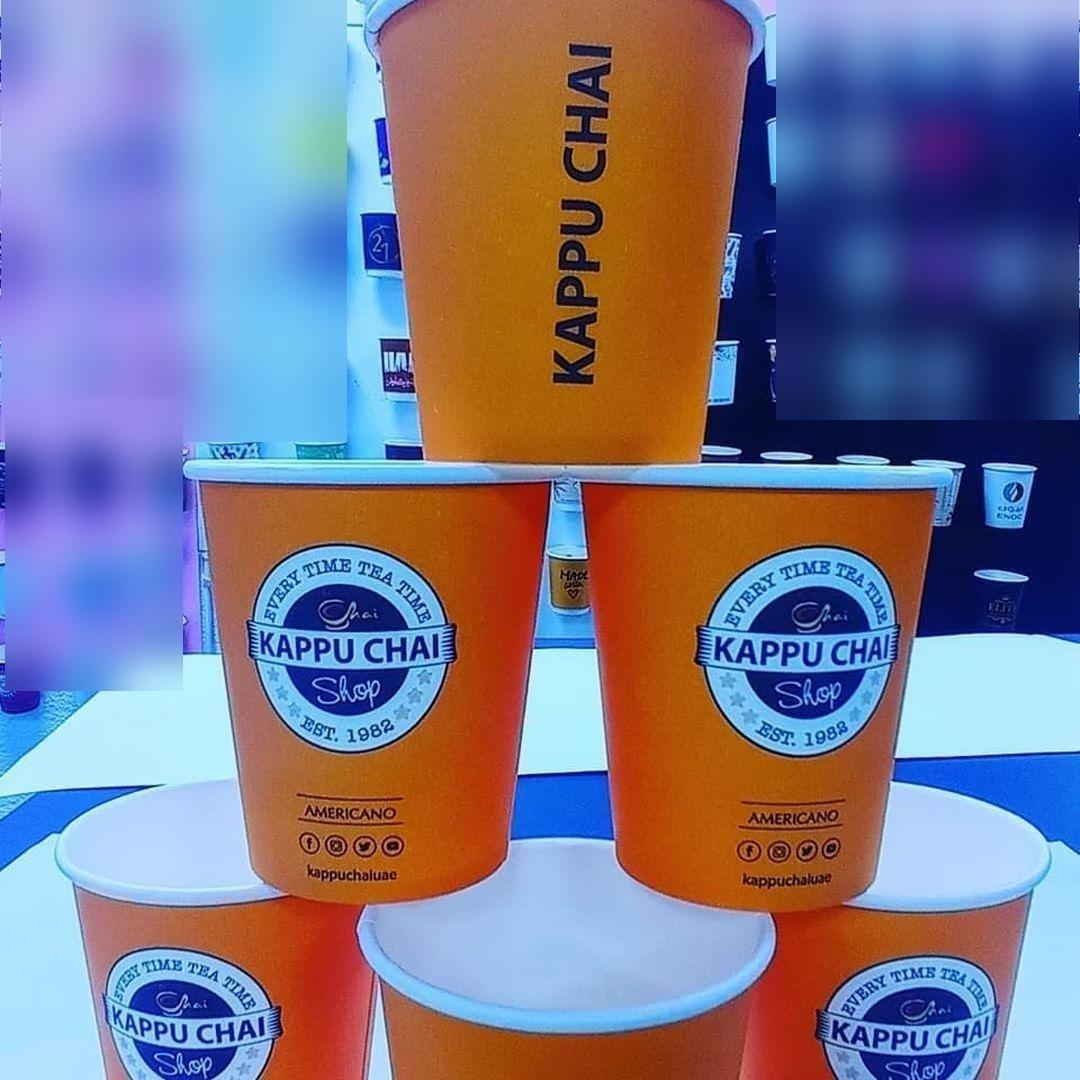cup-disposable: (354, 0, 774, 459), (569, 444, 969, 915), (171, 444, 558, 915), (354, 829, 775, 1080), (740, 756, 1049, 1080), (61, 776, 376, 1080)
